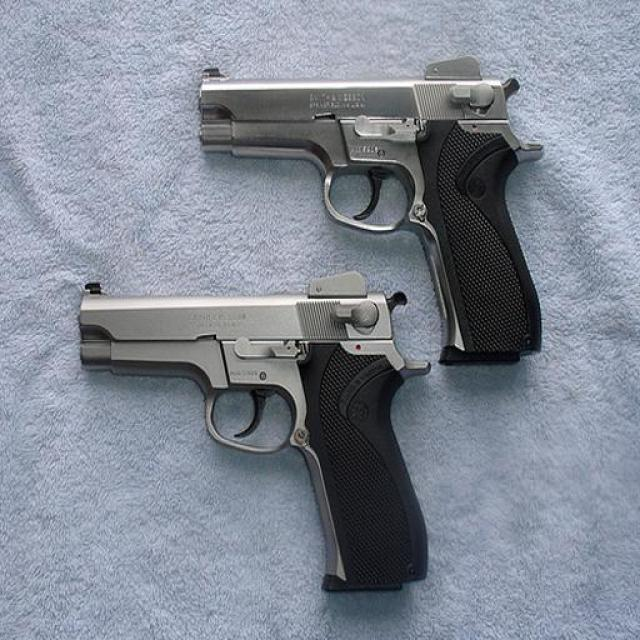pistol: (192, 54, 551, 365), (76, 281, 436, 590)
